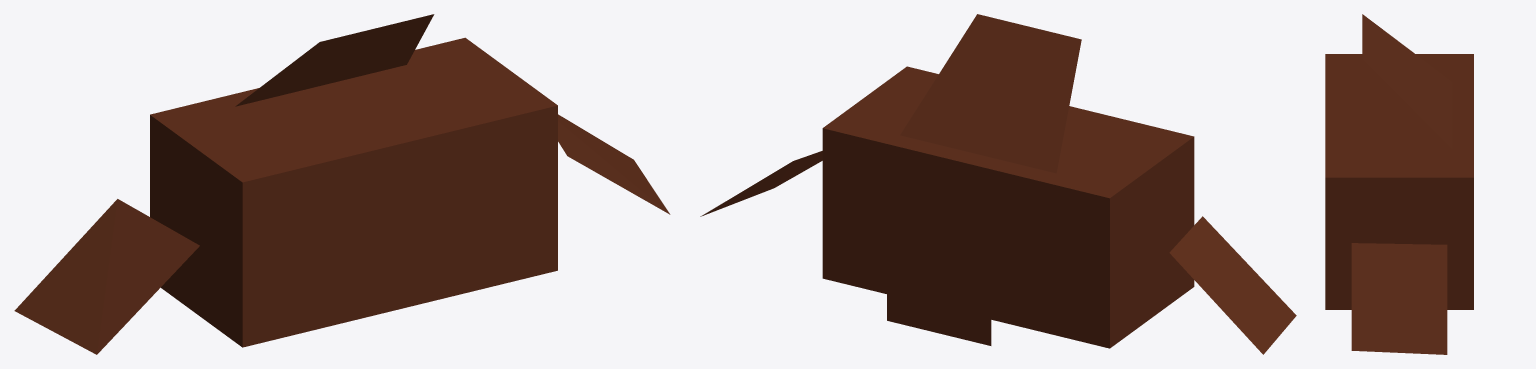
The model's file is pipe_runner_low.obj.
The picture shows the model from 3 angles, left to right: view 1: azimuth 30°, elevation 25°; view 2: azimuth 150°, elevation 25°; view 3: azimuth 270°, elevation 25°; orthographic projection. The views are drawn at different scales.
Visible parts, largest first — view 1: pipe_runner_low; view 2: pipe_runner_low; view 3: pipe_runner_low.
Boxes of the visible parts, x1,y1,x2,y2 form: pipe_runner_low: (14, 14, 670, 354); pipe_runner_low: (700, 14, 1296, 354); pipe_runner_low: (1325, 14, 1473, 354).
Size of the model in its own units: 2.16 by 0.88 by 0.74.
